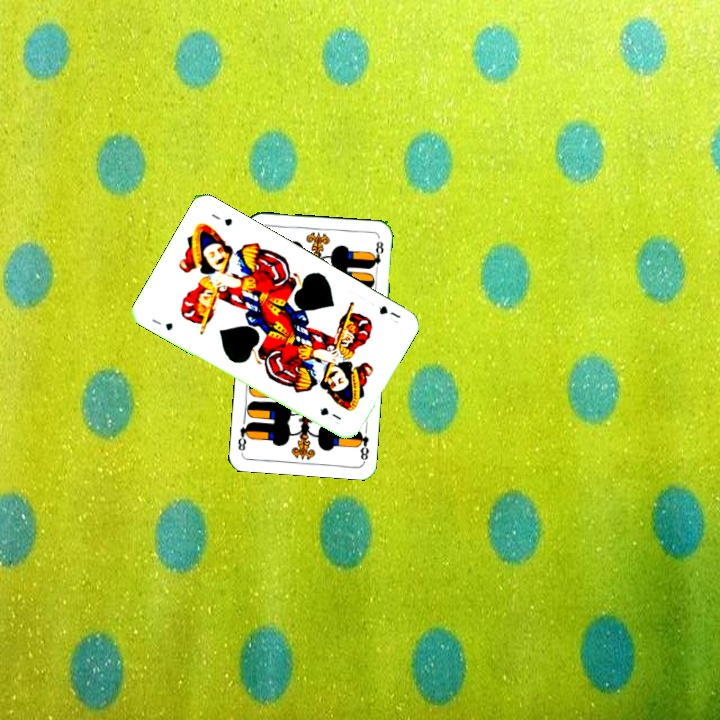E8: (353, 427, 372, 464)
GU: (374, 301, 403, 326), (148, 315, 175, 333)
